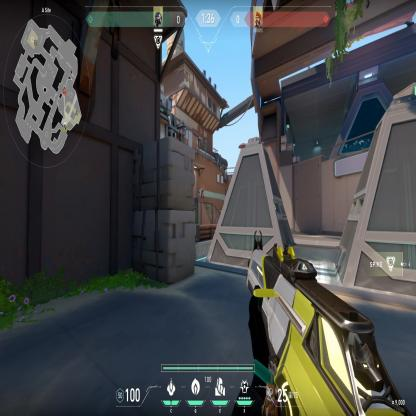enemy: (200, 182, 204, 198)
